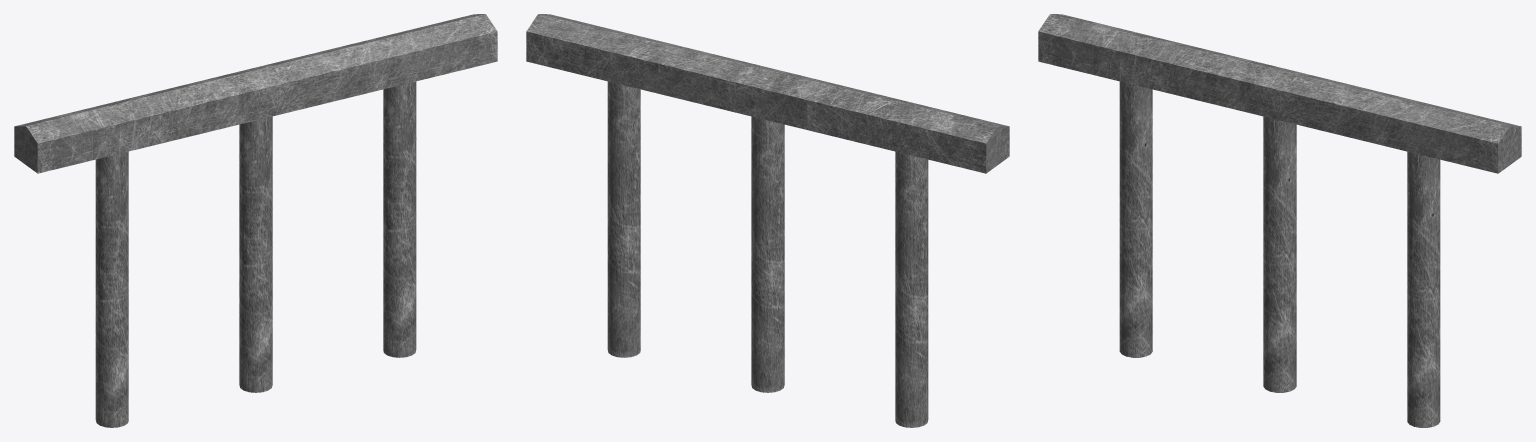
The model's file is Railing.fbx.
The picture shows the model from 3 angles, left to right: view 1: azimuth 30°, elevation 25°; view 2: azimuth 150°, elevation 25°; view 3: azimuth 330°, elevation 25°; orthographic projection.
Visible parts, largest first — view 1: pCylinder1, pCylinder3, pCylinder2, pCylinder4; view 2: pCylinder1, pCylinder3, pCylinder2, pCylinder4; view 3: pCylinder1, pCylinder4, pCylinder2, pCylinder3.
Part boxes in pixels (<box>): pCylinder1: <box>14,14,497,173</box>; pCylinder3: <box>383,81,416,357</box>; pCylinder2: <box>239,116,272,392</box>; pCylinder4: <box>95,151,128,427</box>; pCylinder1: <box>526,14,1009,173</box>; pCylinder3: <box>607,81,640,357</box>; pCylinder2: <box>751,116,784,392</box>; pCylinder4: <box>895,151,928,427</box>; pCylinder1: <box>1038,14,1521,173</box>; pCylinder4: <box>1119,81,1152,357</box>; pCylinder2: <box>1263,116,1296,392</box>; pCylinder3: <box>1407,151,1440,427</box>.
Size of the model in its own units: 16 by 10.5 by 1.41.
Materials: 1 (1 with a texture image).
